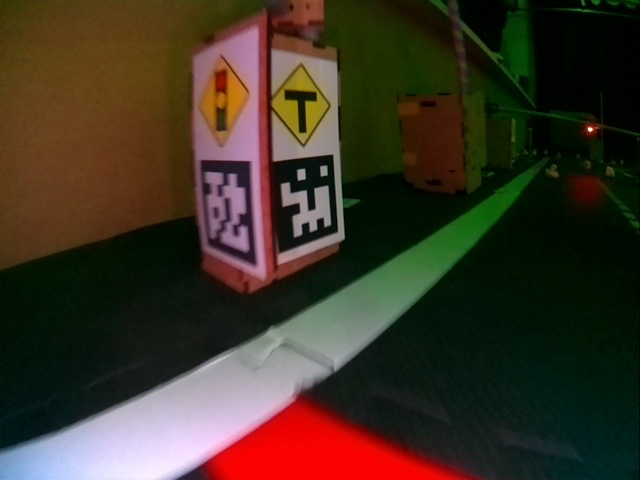Duckie: (545, 164, 559, 178), (605, 167, 615, 176)
Intersection sign: (270, 62, 336, 146)
QR code: (270, 154, 341, 256), (198, 160, 261, 267)
Signal sign: (195, 31, 259, 155)
